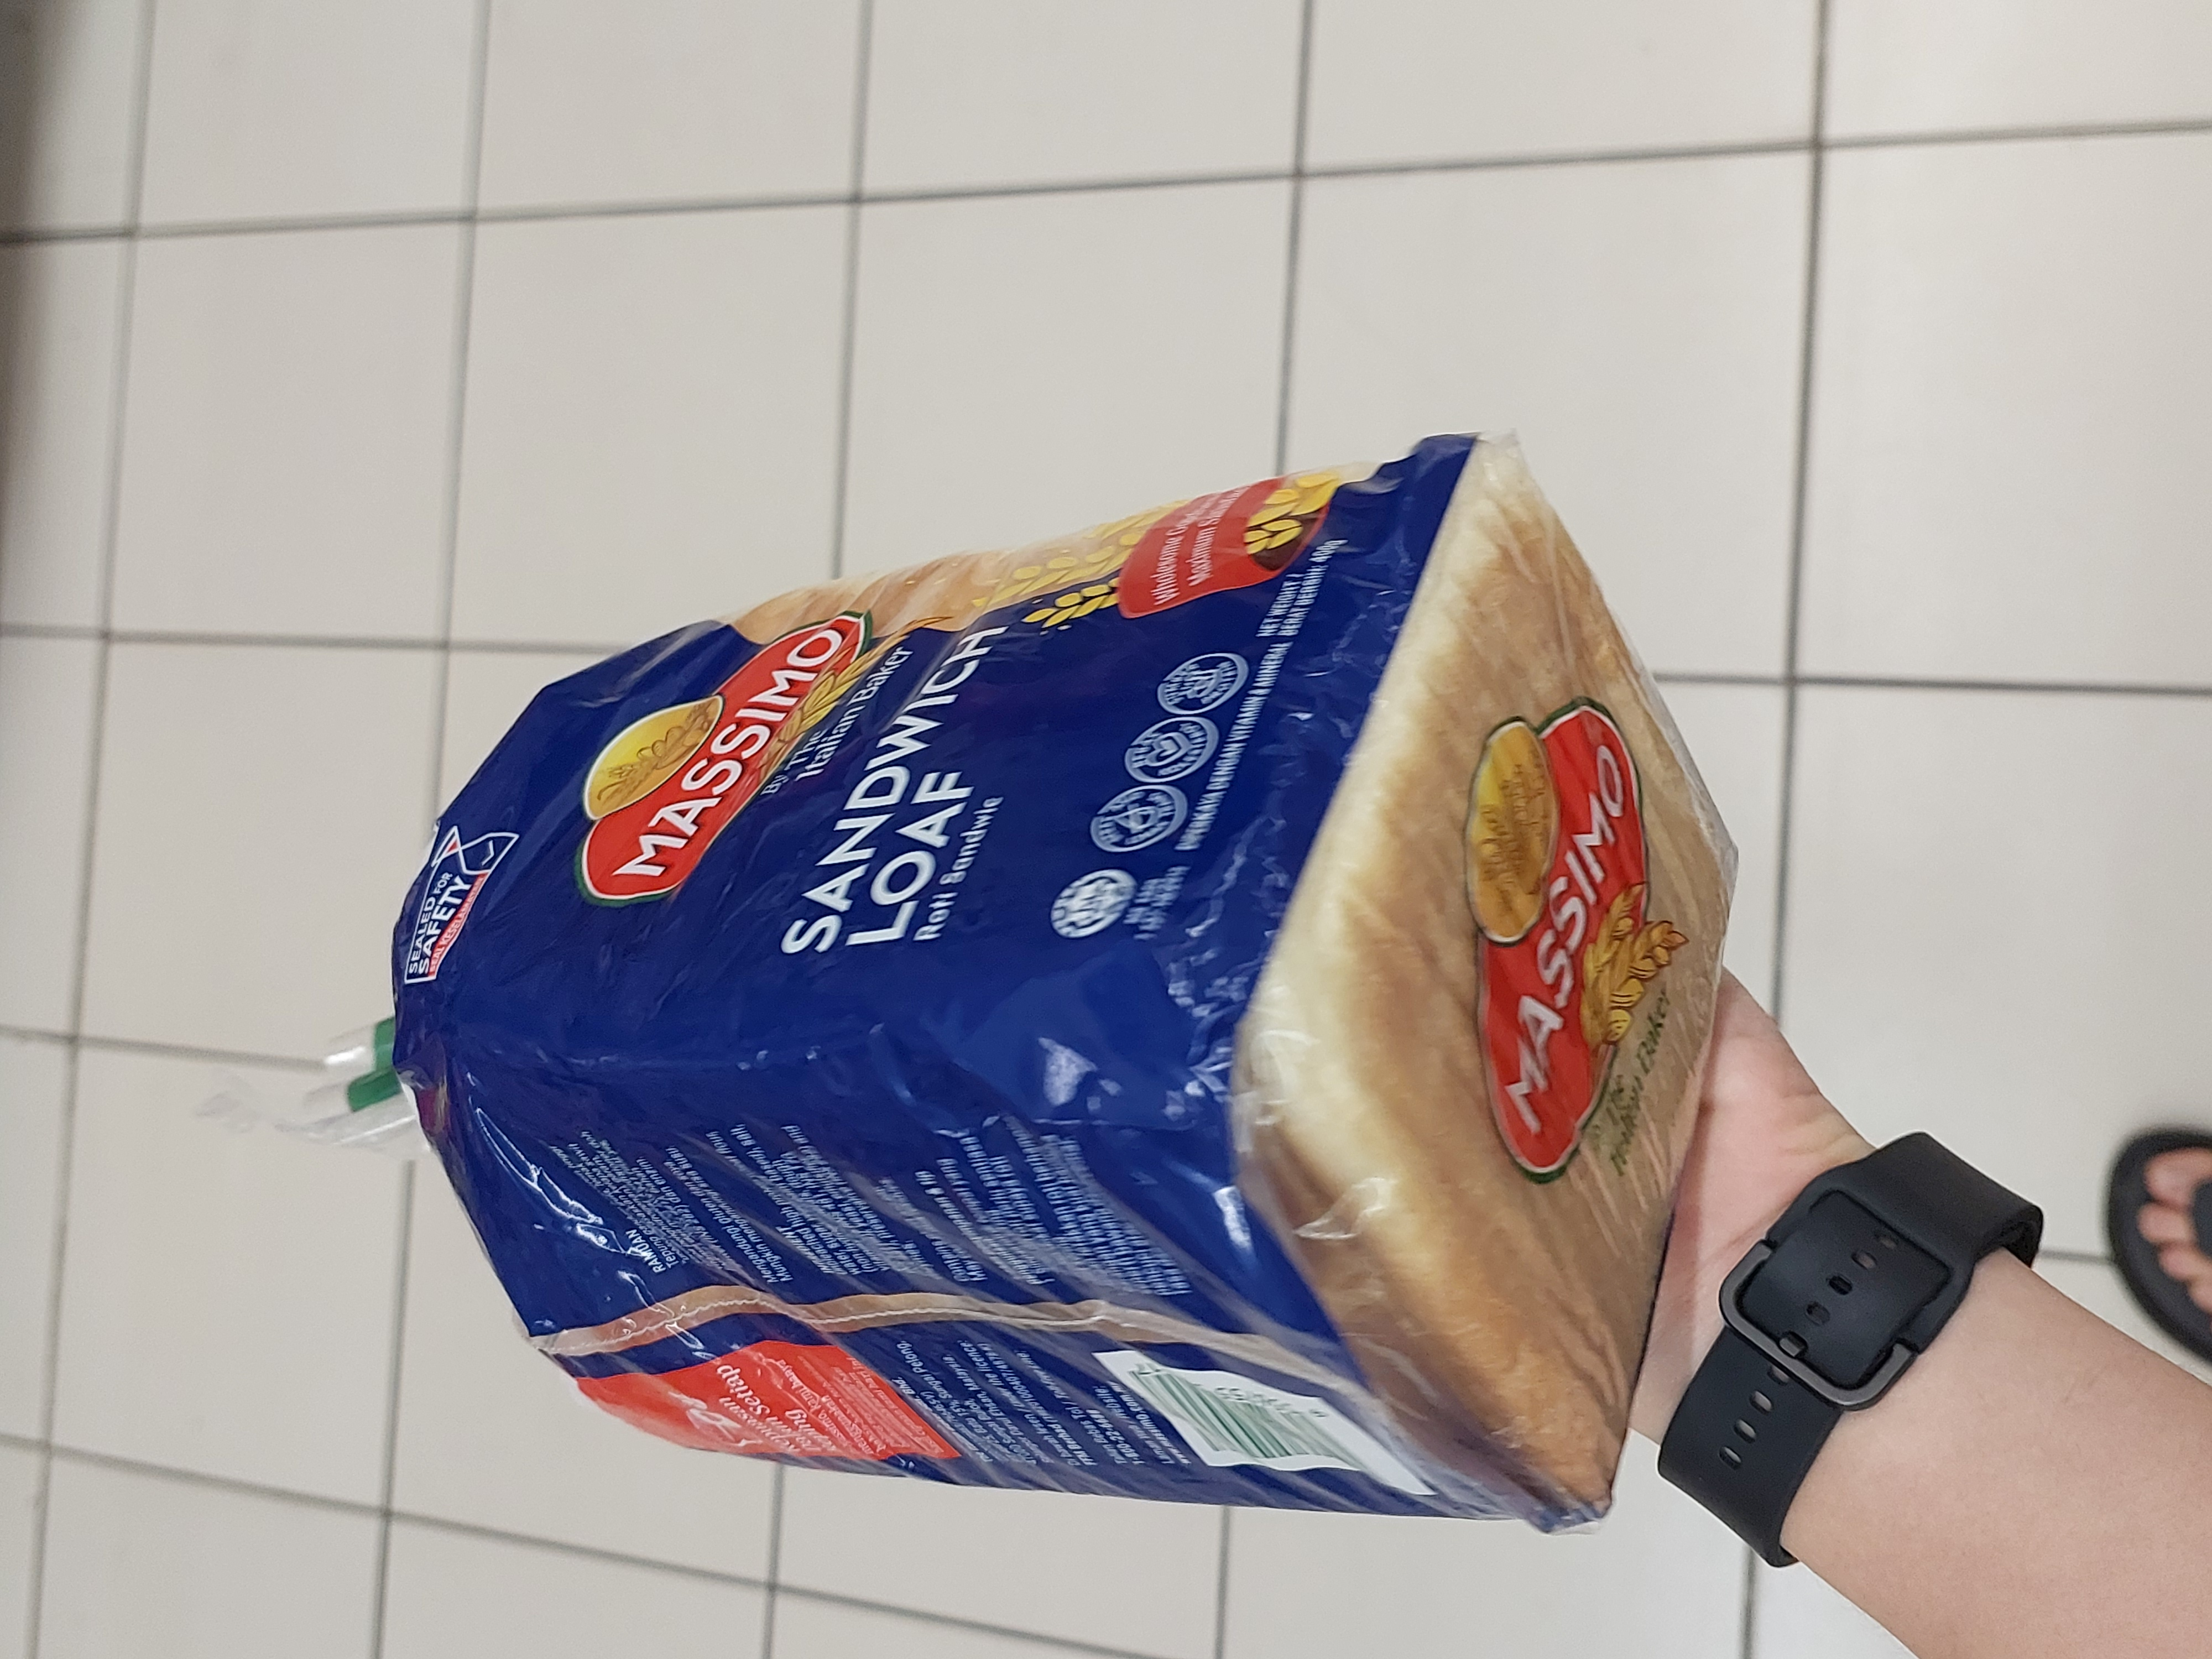bread: (347, 427, 1737, 1542)
